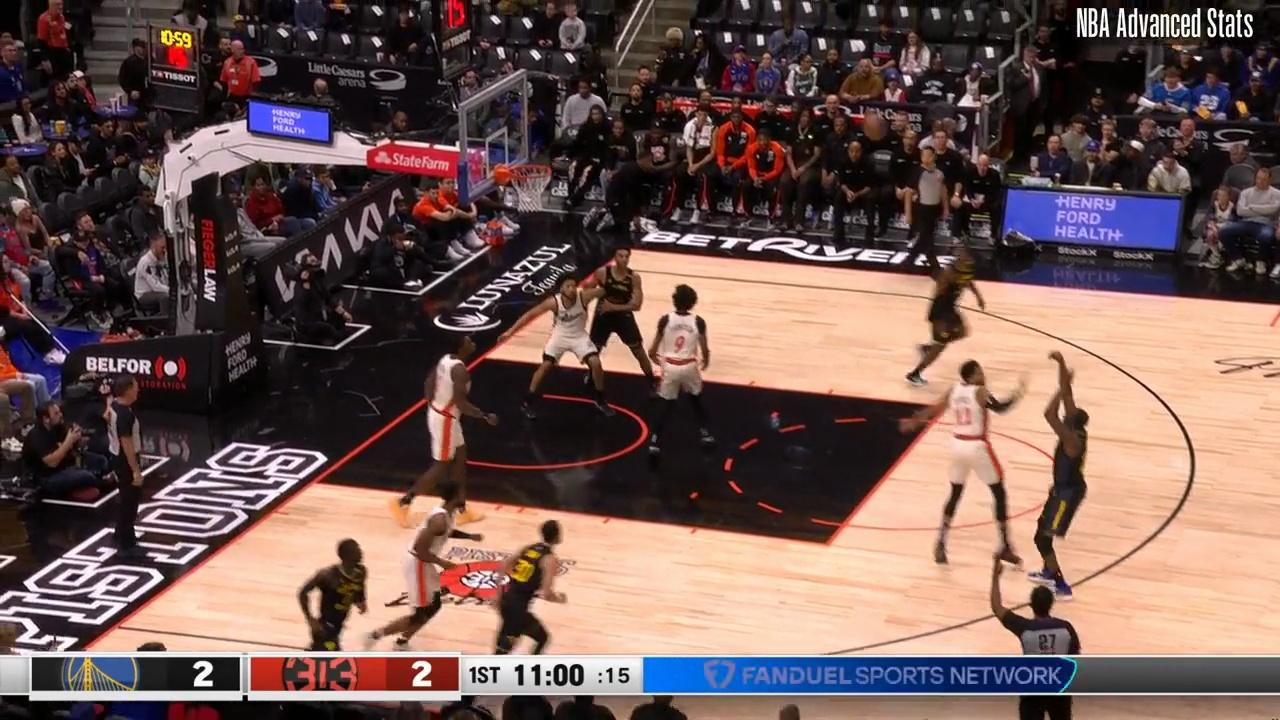basketball: (863, 116, 890, 139)
